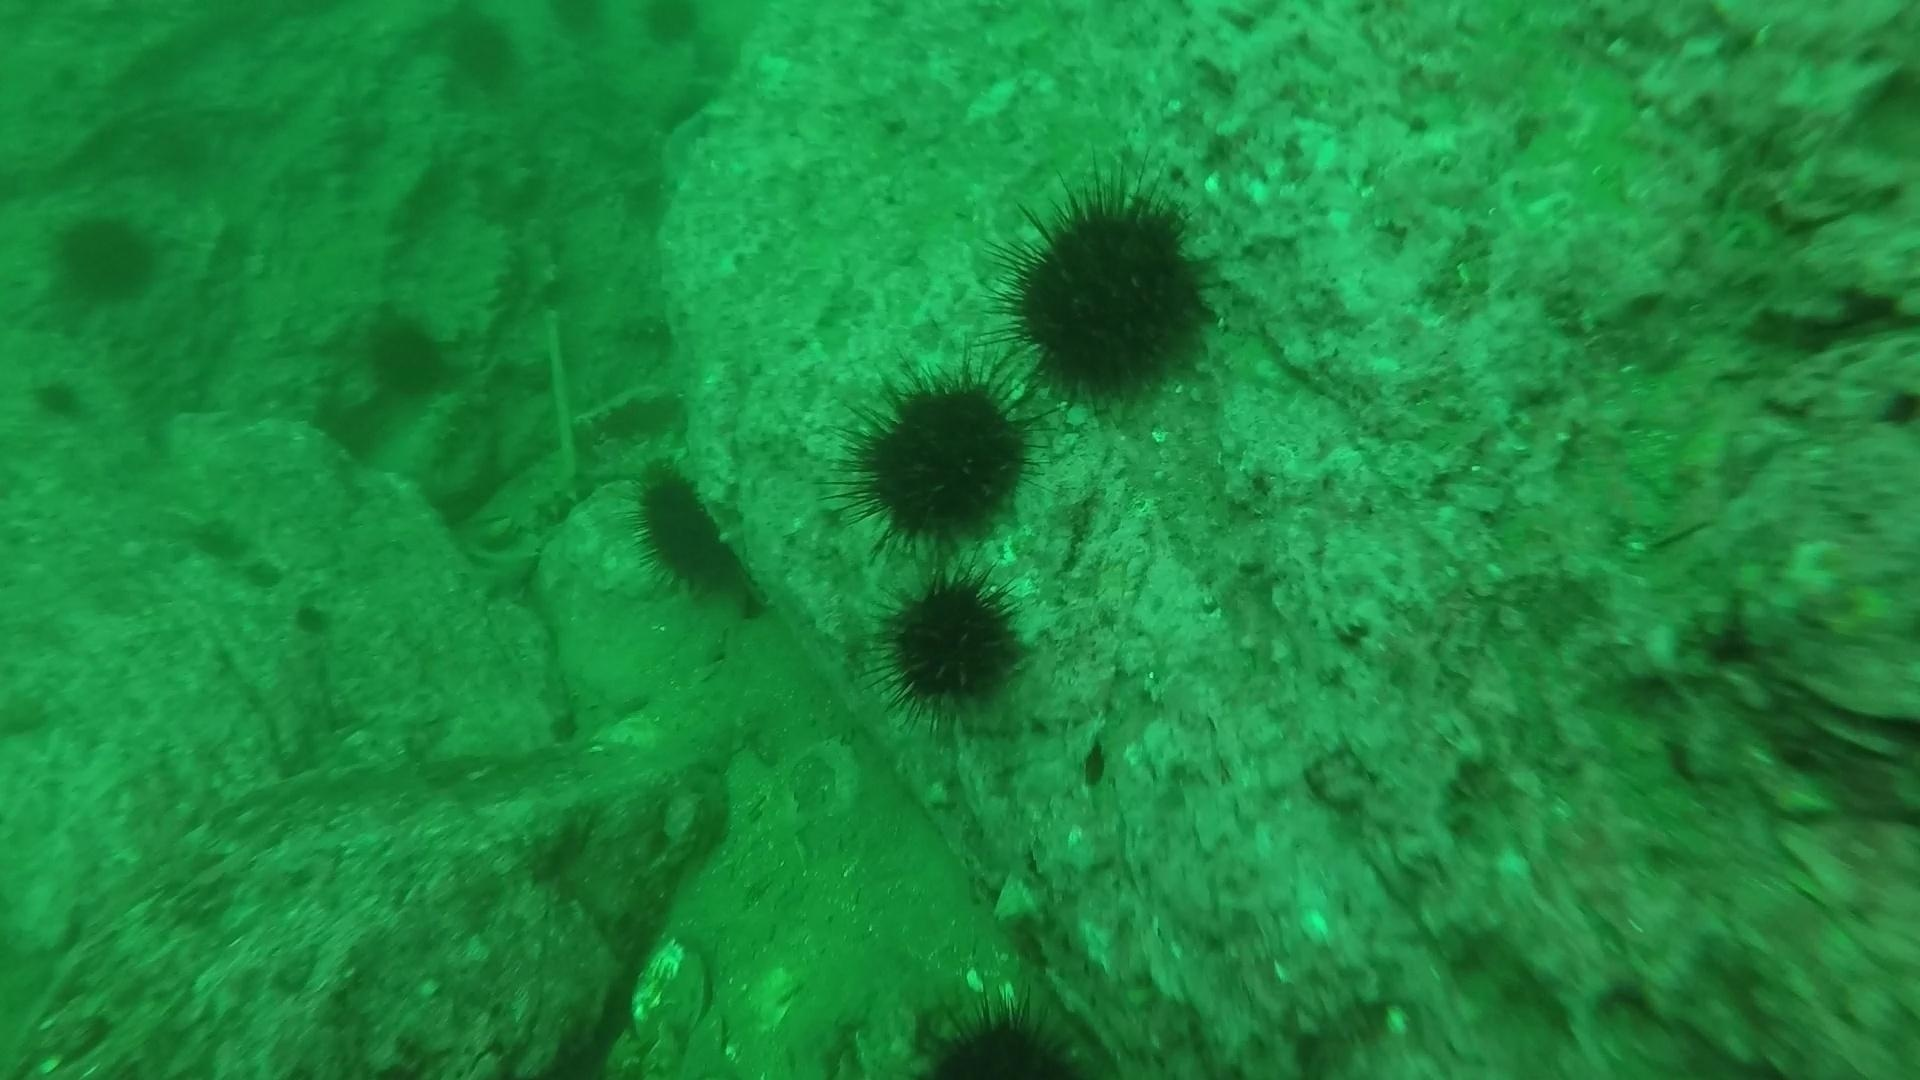echinus: (984, 171, 1225, 414), (831, 361, 1047, 558), (866, 562, 1031, 725), (621, 459, 761, 607), (905, 986, 1104, 1077), (44, 204, 166, 309), (357, 306, 455, 402), (429, 7, 525, 96), (634, 1, 709, 53), (26, 371, 91, 425)
